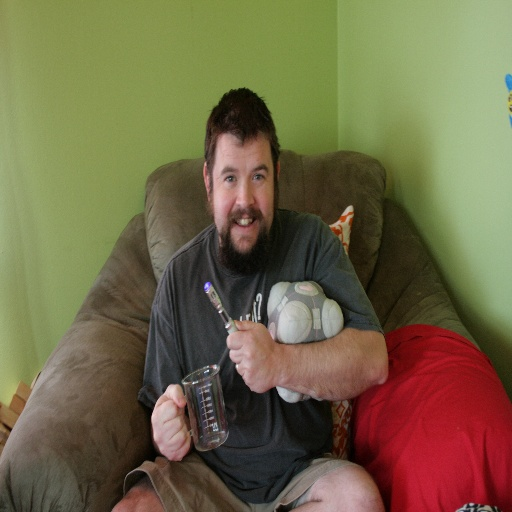hand: (225, 319, 278, 395), (150, 383, 193, 465)
